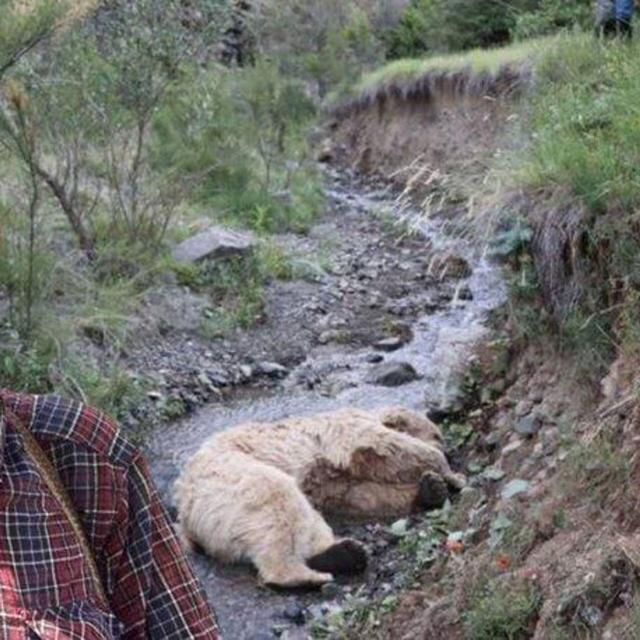Bear: (174, 407, 465, 592)
